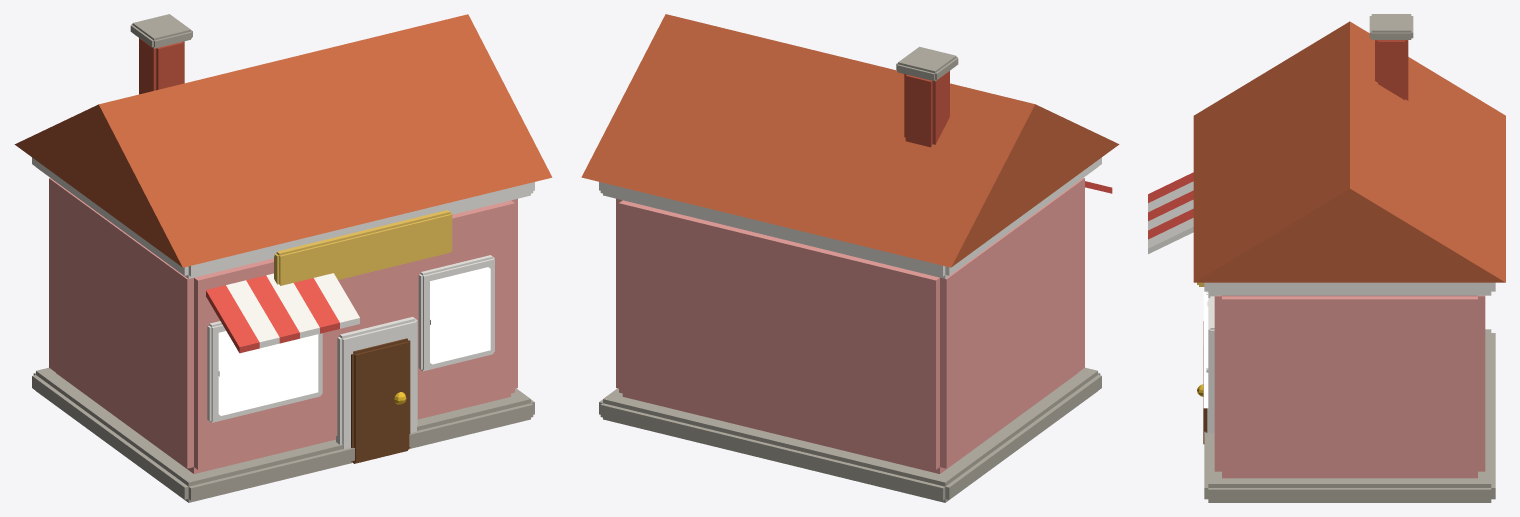
The model's file is bakery.glb.
The picture shows the model from 3 angles, left to right: view 1: azimuth 30°, elevation 25°; view 2: azimuth 150°, elevation 25°; view 3: azimuth 270°, elevation 25°; orthographic projection. The views are drawn at different scales.
Parts seen in each view (by area): view 1: bakery; view 2: bakery; view 3: bakery.
Boxes of the visible parts, x1=… form: bakery: x1=14, y1=14, x2=552, y2=502; bakery: x1=581, y1=14, x2=1119, y2=502; bakery: x1=1148, y1=14, x2=1505, y2=502.
Bounding box in the file's own units: 1.9 × 1.9 × 1.72.
